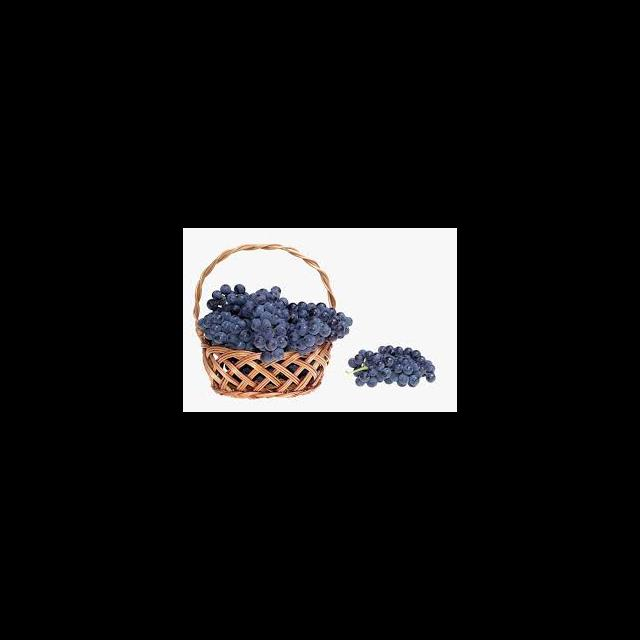grape: (198, 283, 352, 363), (347, 344, 435, 387)
